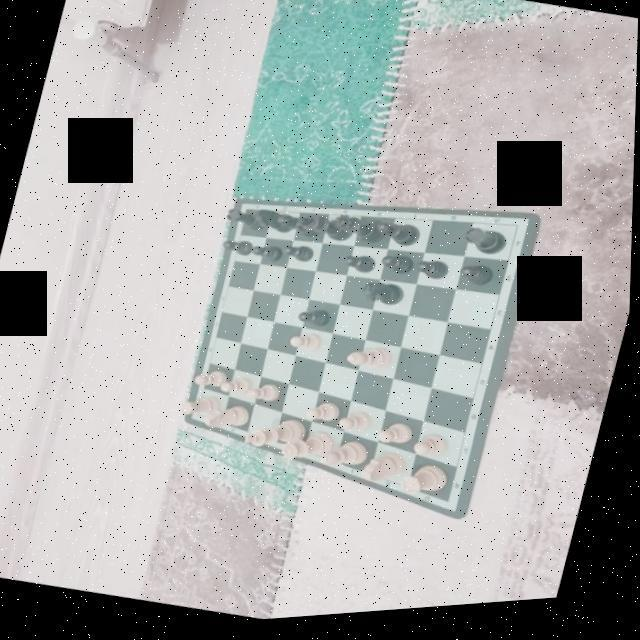chess-table-corners: (511, 226, 526, 242), (192, 410, 207, 425), (443, 502, 458, 514), (240, 207, 252, 218)
